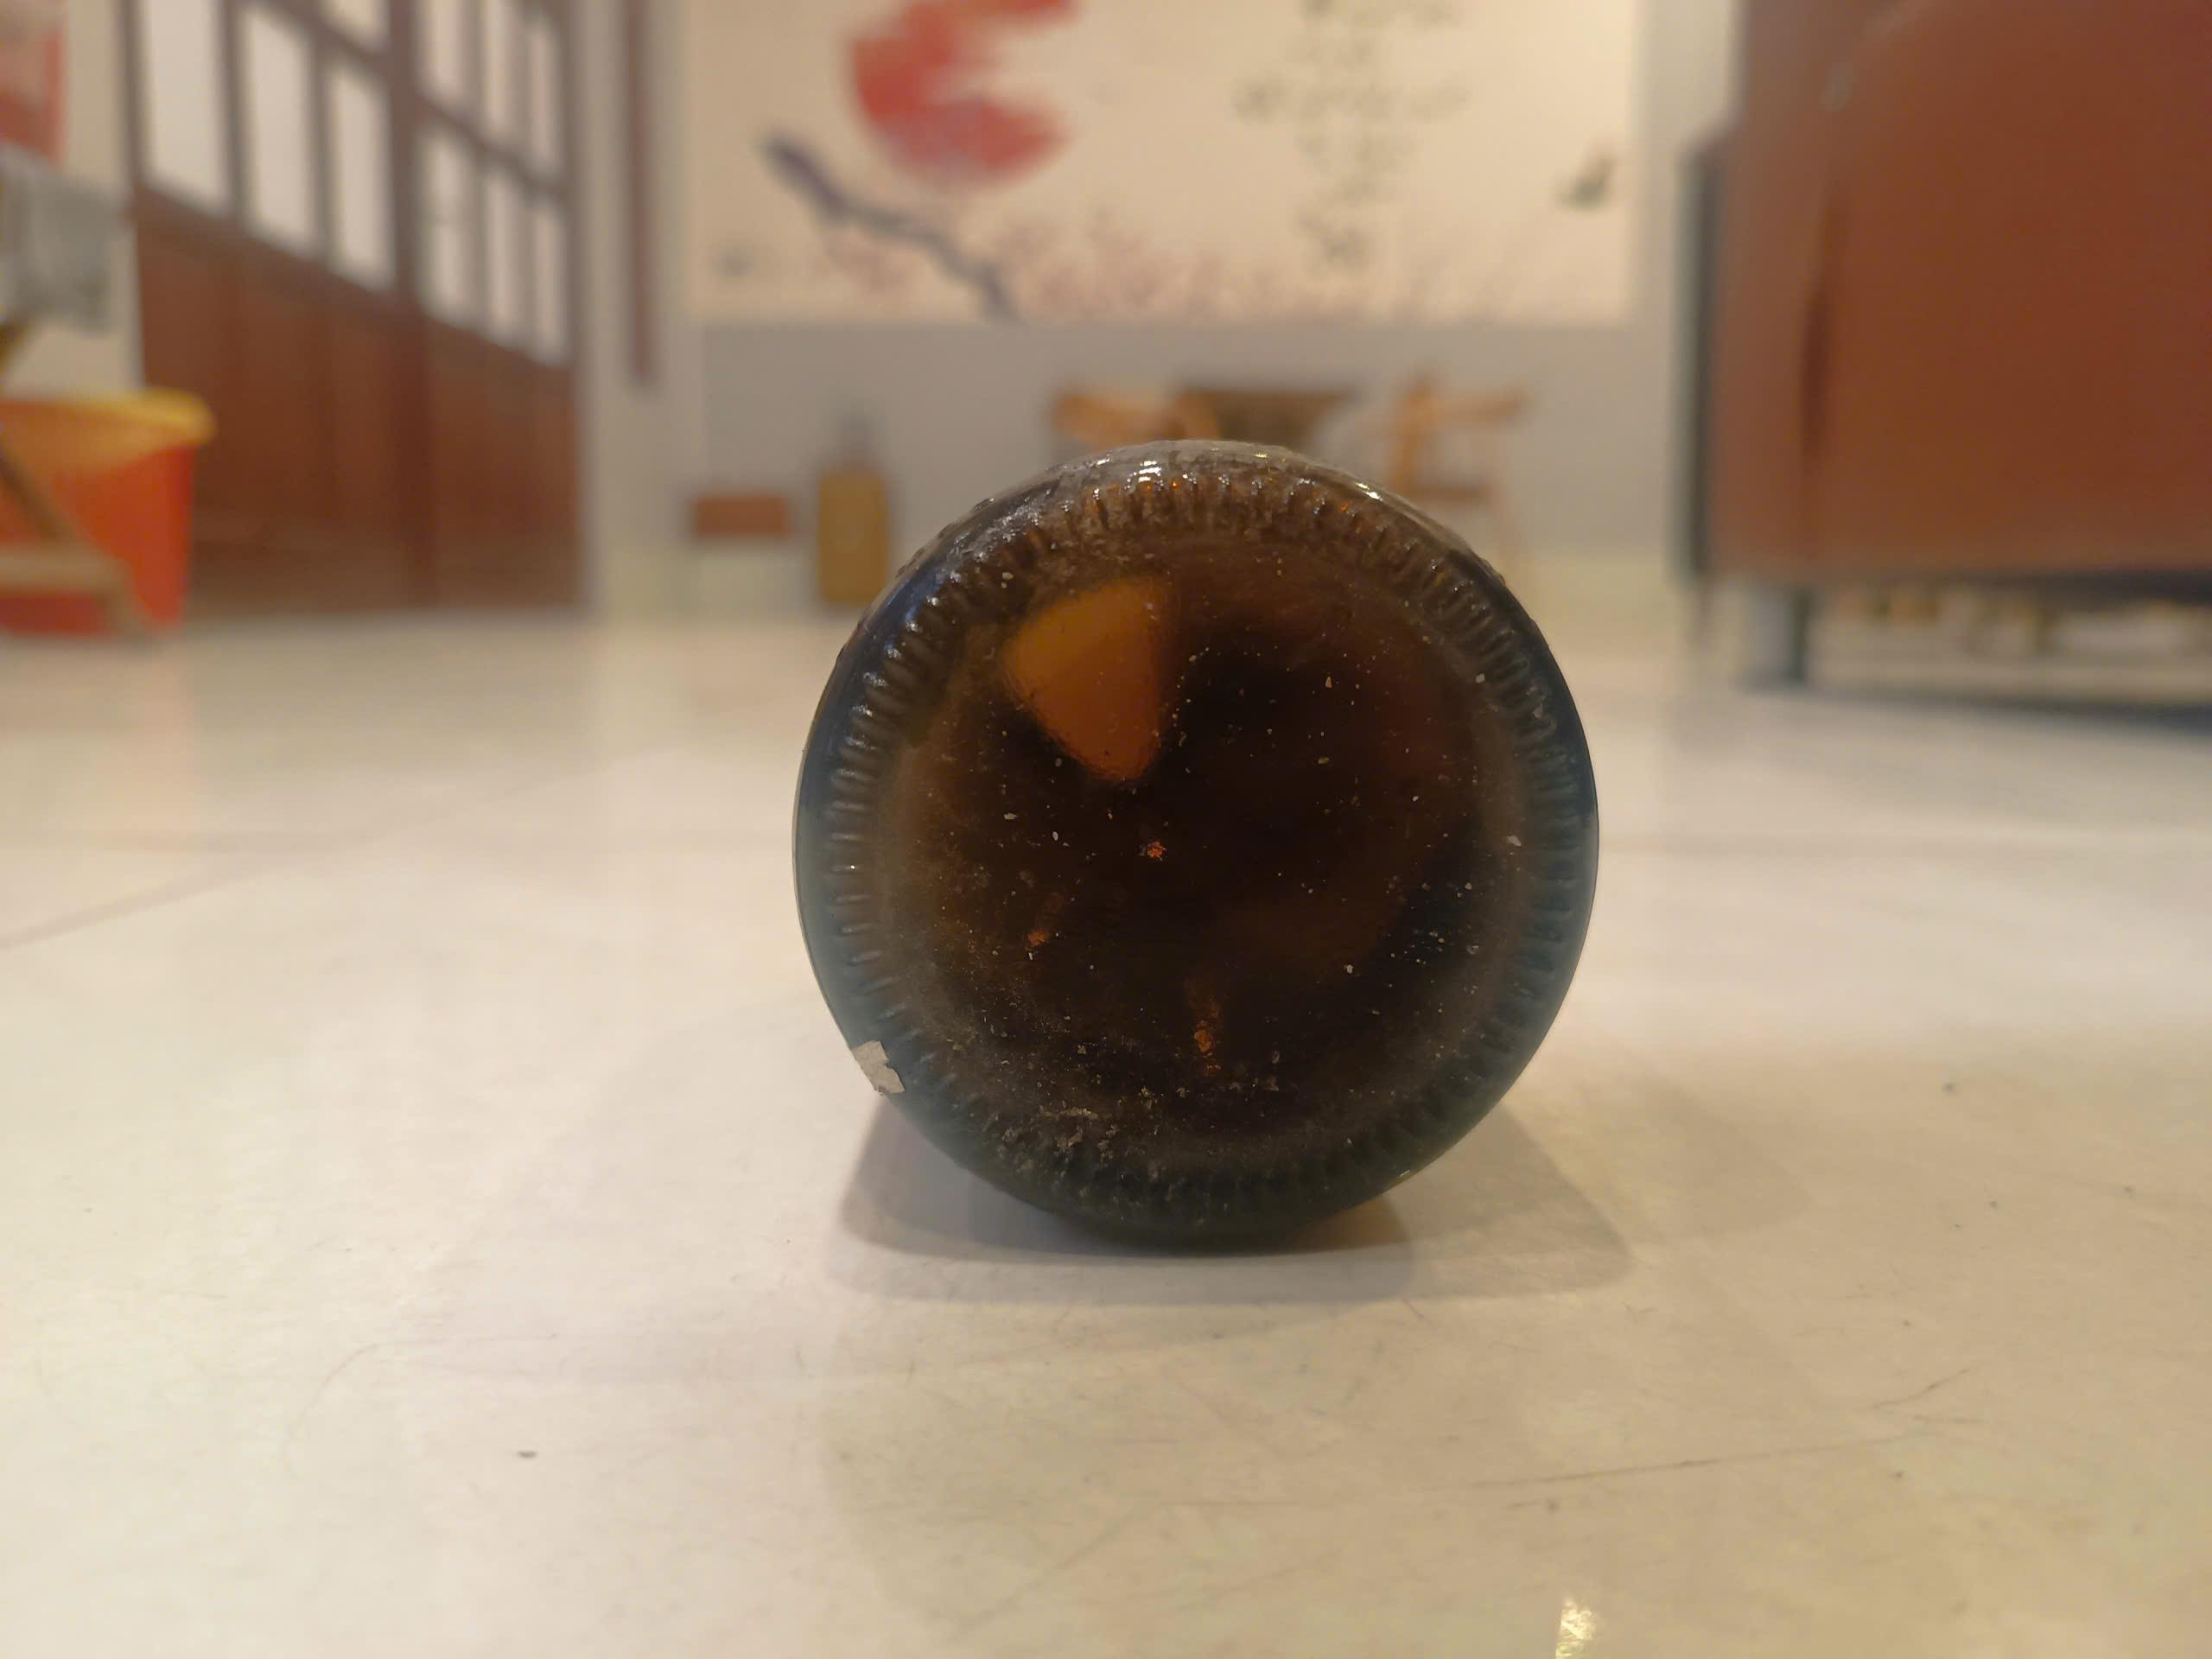Vo co: (795, 444, 1586, 1256)
